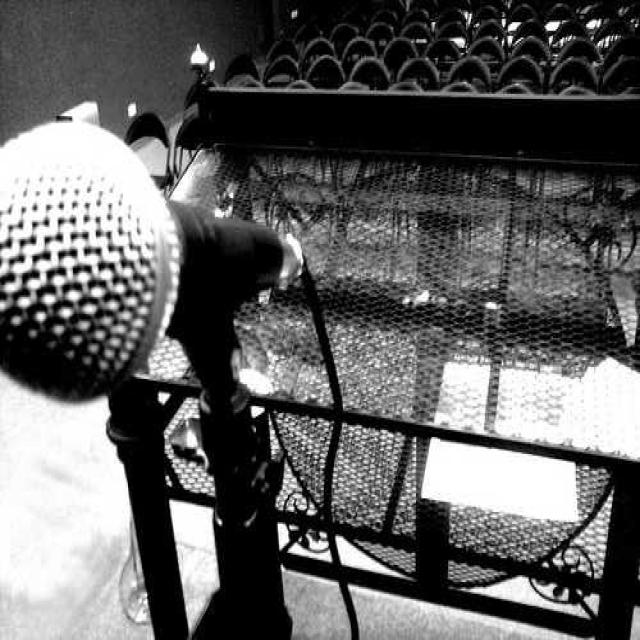microphone: (0, 118, 298, 410)
